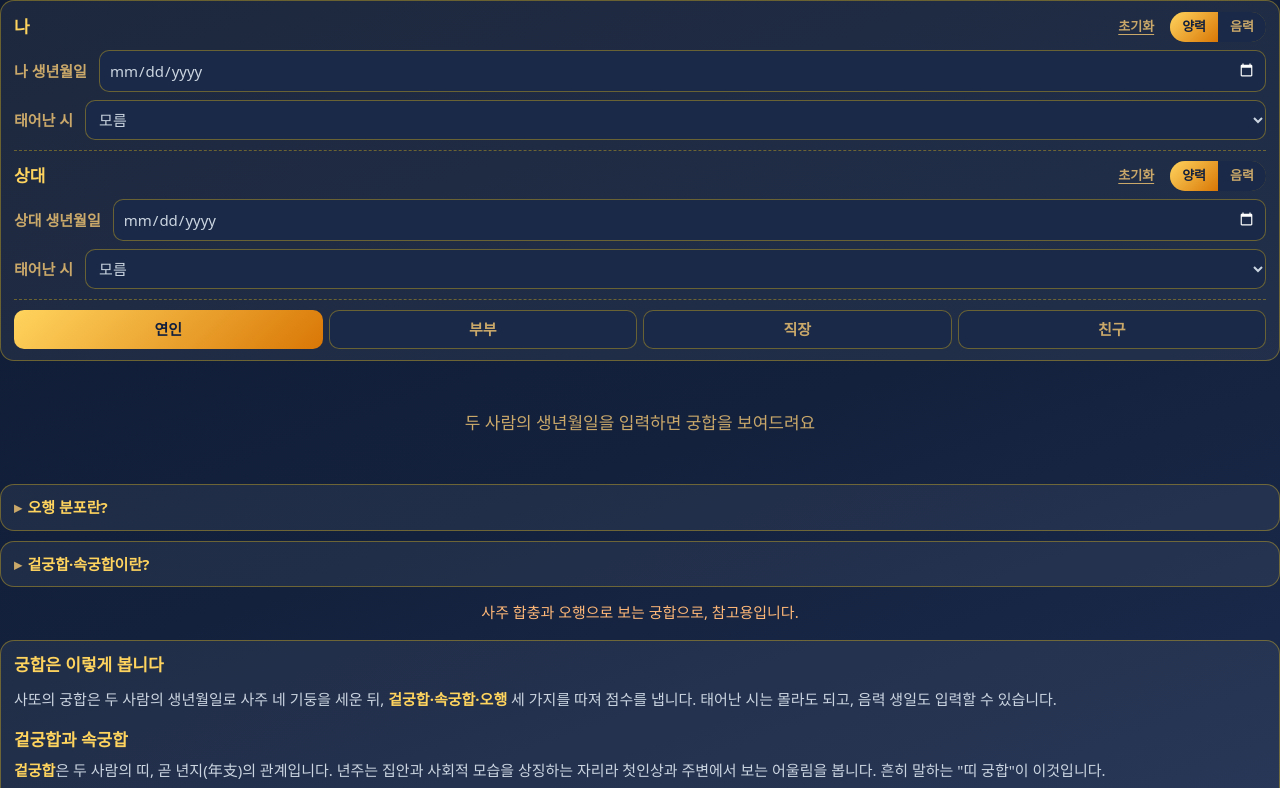
Test: 음력 선택 시 양력으로 변환해 계산하고 변환 결과를 보여준다
The width and height of the screenshot is (1280, 788).
Step 1. Click the 1st button "음력" → click(1242, 27), box [1218, 12, 1266, 42]
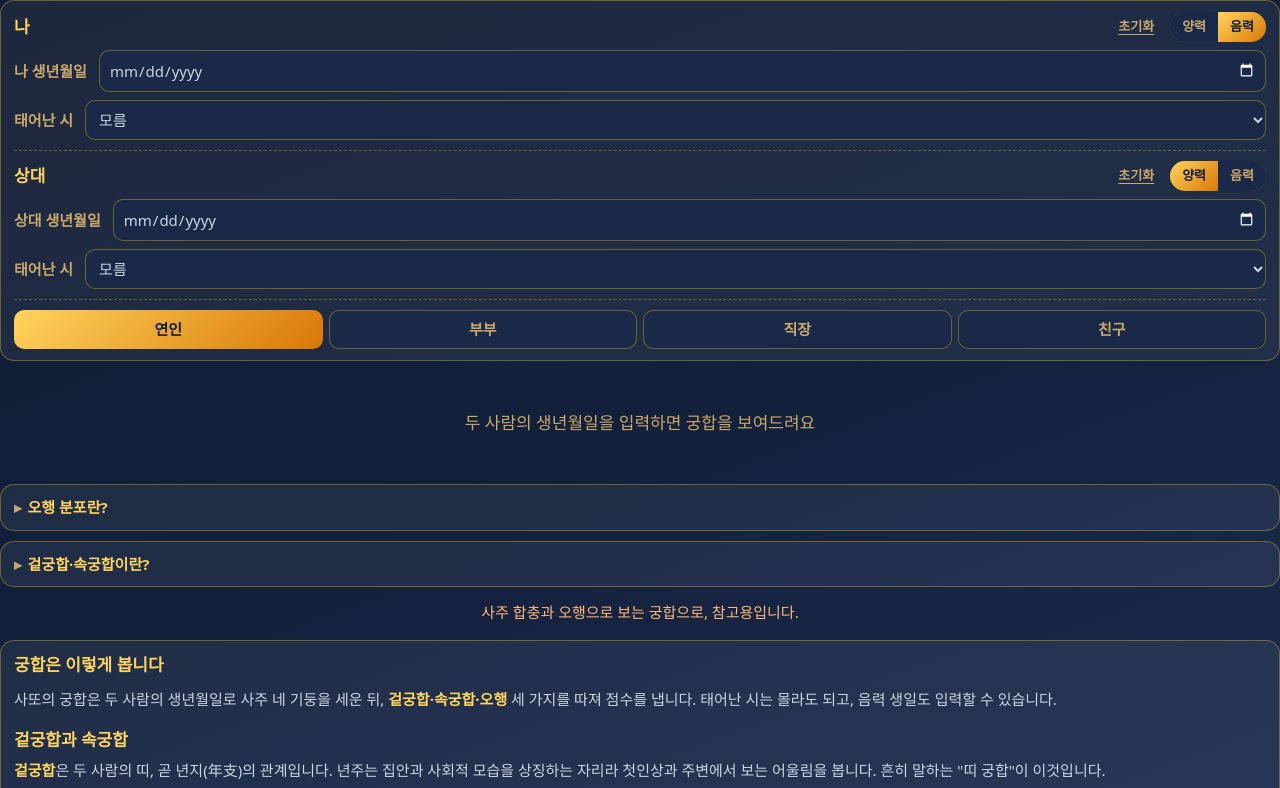
Step 2. Type "2026-01-01" into the date field labelled "나 생년월일" → (682, 71), box [99, 50, 1266, 92]
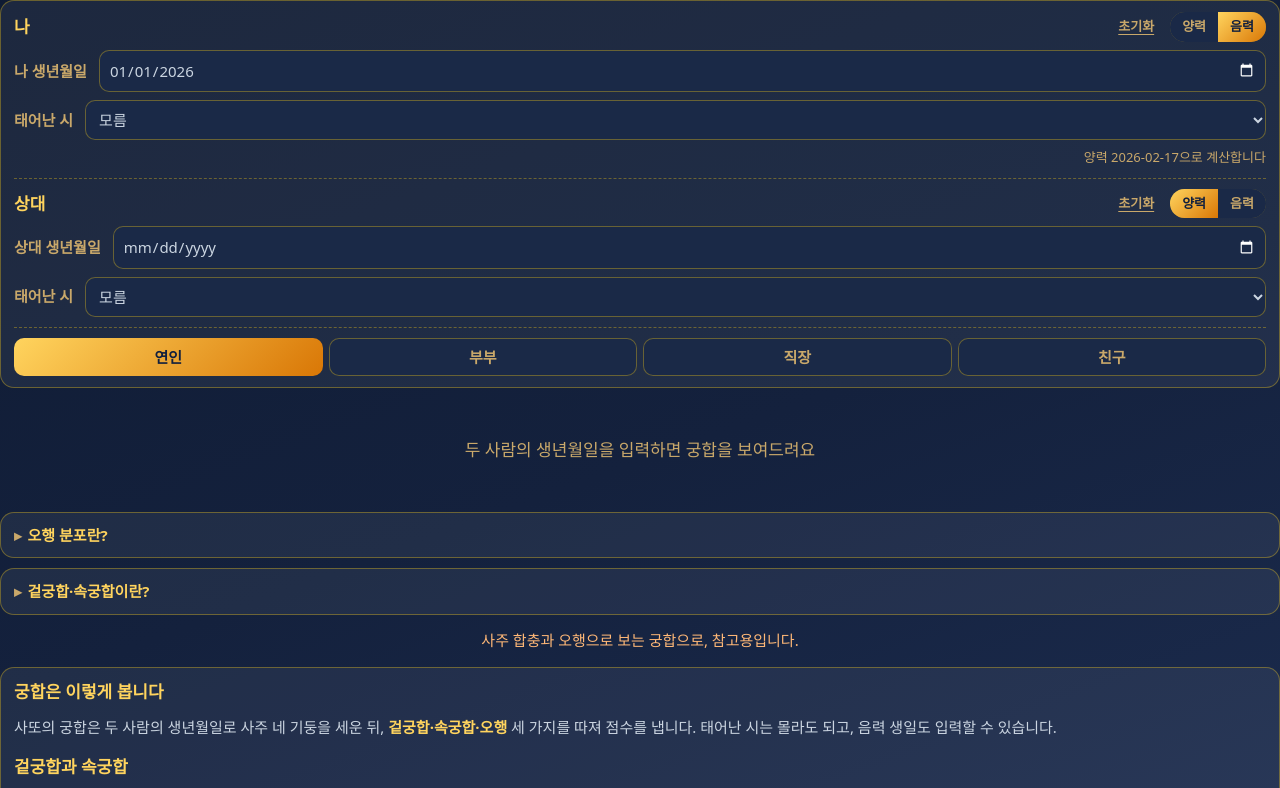
Step 3. Type "2016-06-01" into the date field labelled "상대 생년월일" → (689, 247), box [113, 226, 1266, 268]
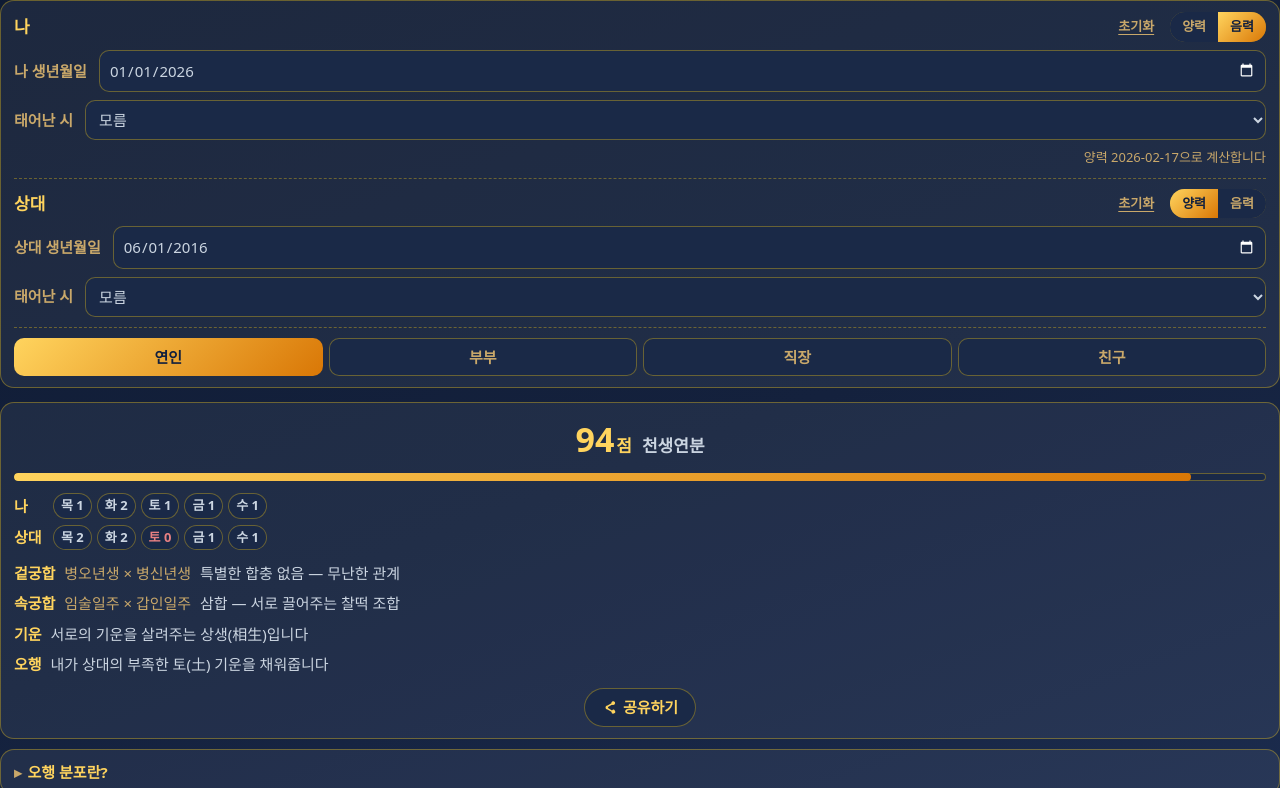
Now the text "양력 2026-02-17으로 계산합니다" is shown, box [1084, 148, 1266, 166]
Now the text "94" is shown, box [575, 416, 614, 462]
